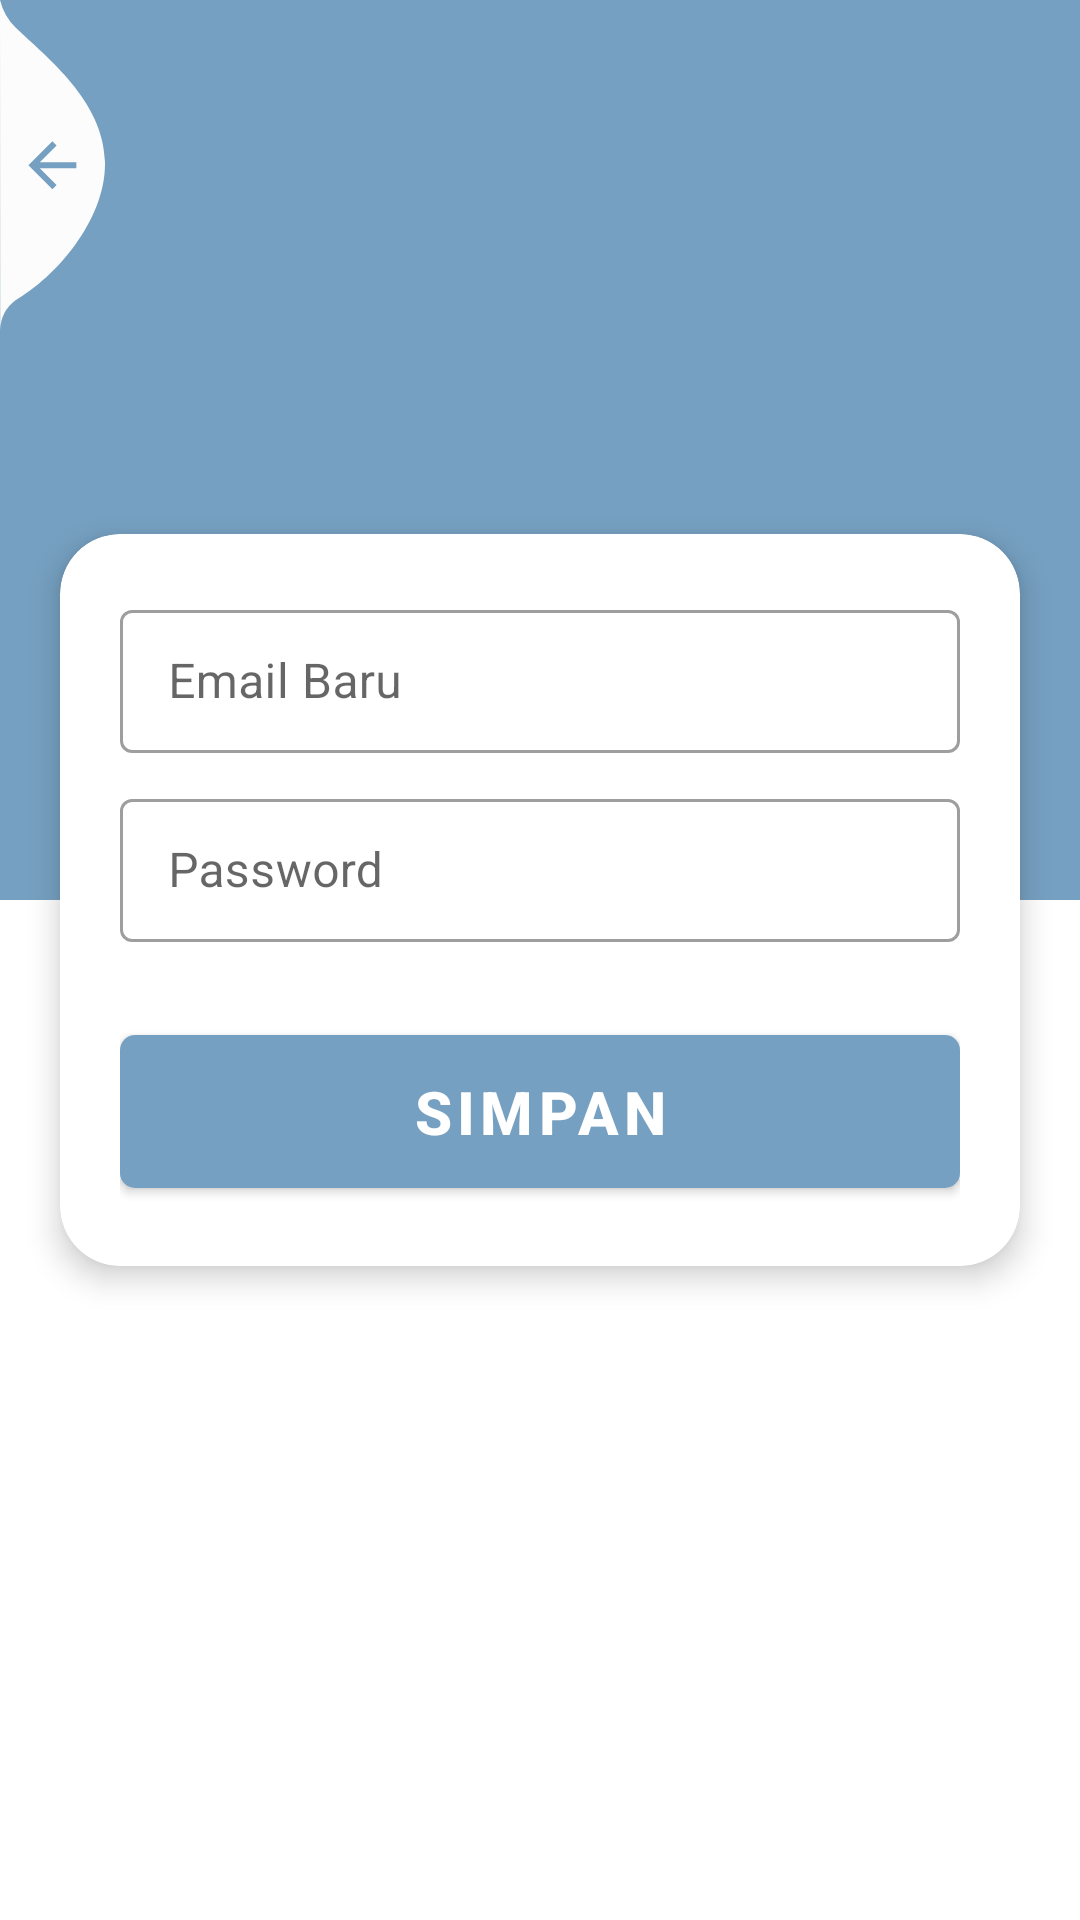

Named icons in this screenshot (1080px×1920px) and their centers, point (x, y):
back: point (52, 164)
